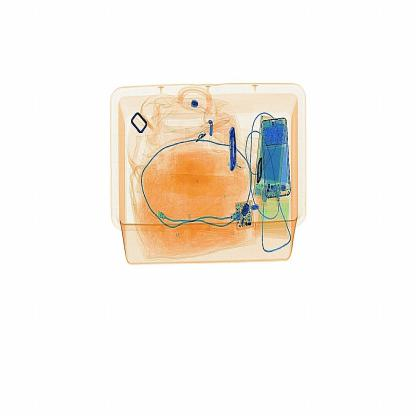knife: (218, 119, 250, 190)
